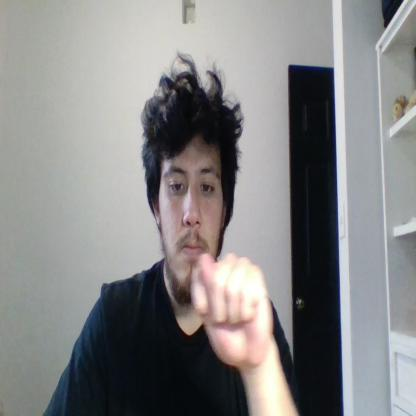T: (191, 252, 273, 368)
